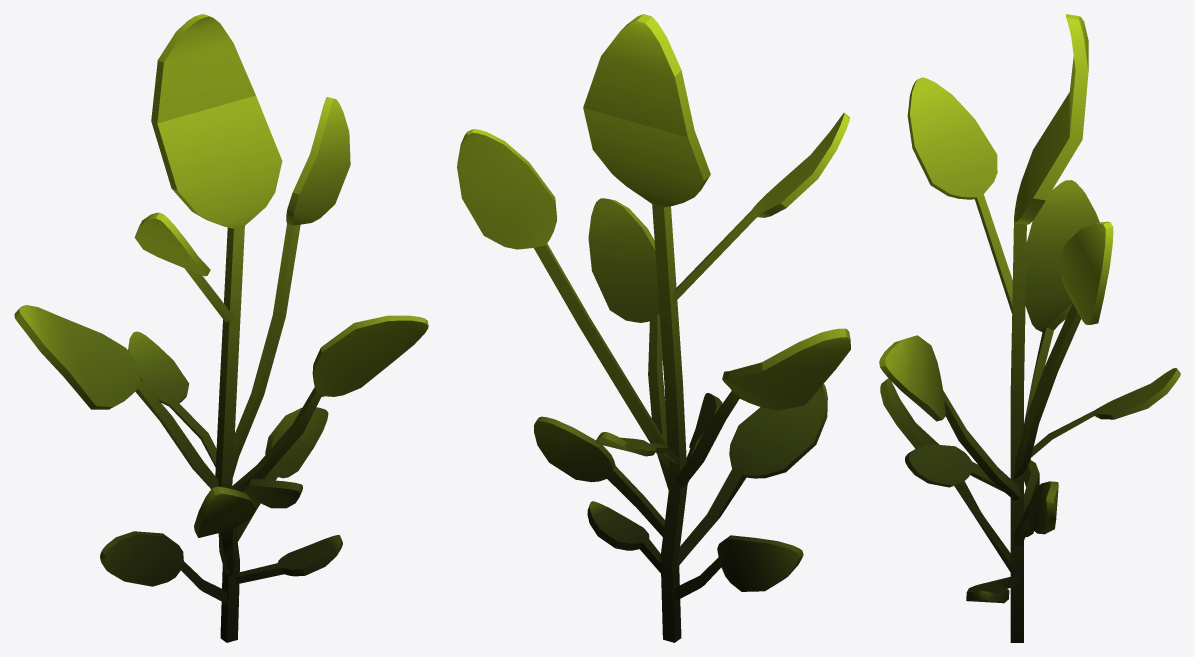
The model's file is PlantTypeA.fbx.
3 renders of one model, left to right at view 1: azimuth 30°, elevation 25°; view 2: azimuth 150°, elevation 25°; view 3: azimuth 270°, elevation 25°, orthographic. The views are drawn at different scales.
Parts seen in each view (by area): view 1: PlantTypeA; view 2: PlantTypeA; view 3: PlantTypeA.
Part boxes in pixels (left/top/right/bottom): PlantTypeA: left=14, top=14, right=428, bottom=642; PlantTypeA: left=457, top=14, right=850, bottom=642; PlantTypeA: left=879, top=14, right=1180, bottom=642.
Size of the model in its own units: 47.77 by 78.8 by 34.49.
